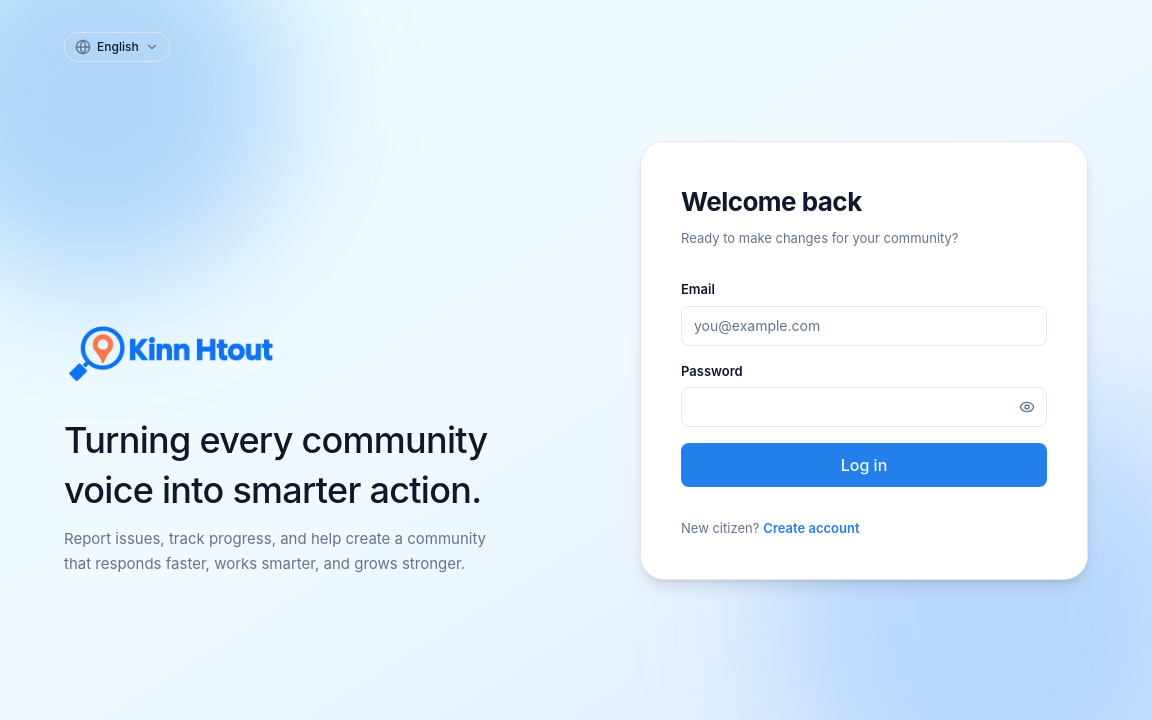
Test: LoginForm › shows the server error message on failed login
Type "x@example.com" into the field with placeholder "you@example.com" at x=864, y=326, box [681,306,1047,346]
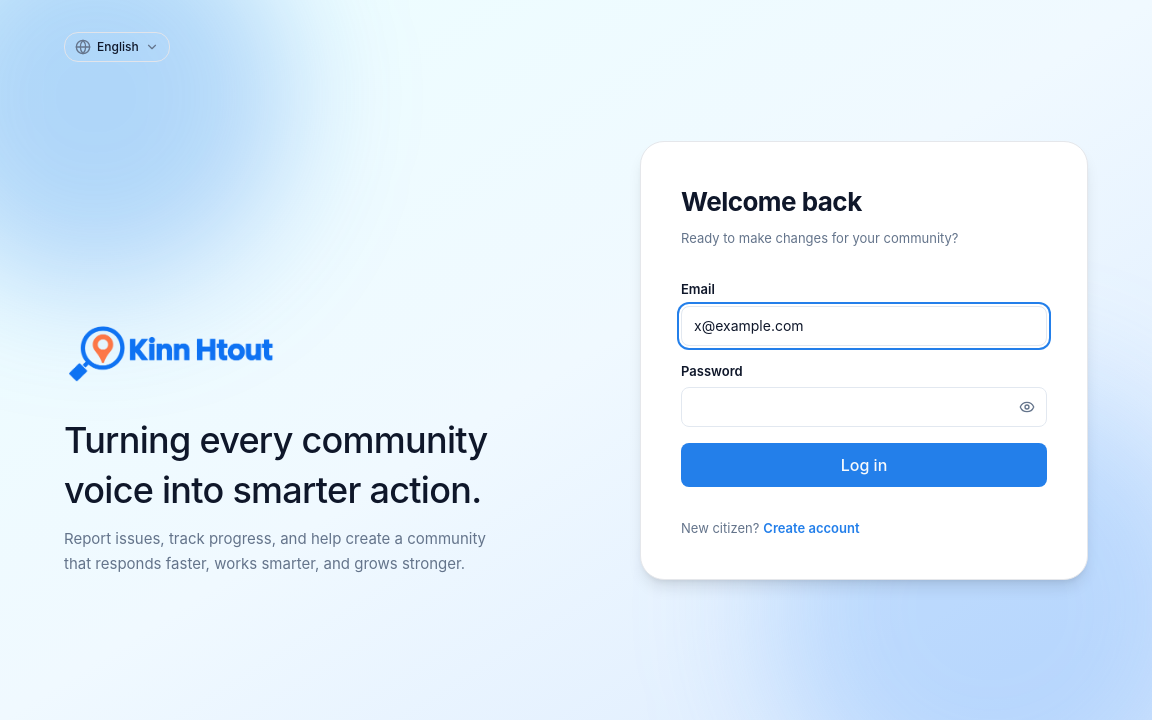
Type "wrong" into the password field labelled "Password" at x=864, y=407, box [681,387,1047,427]
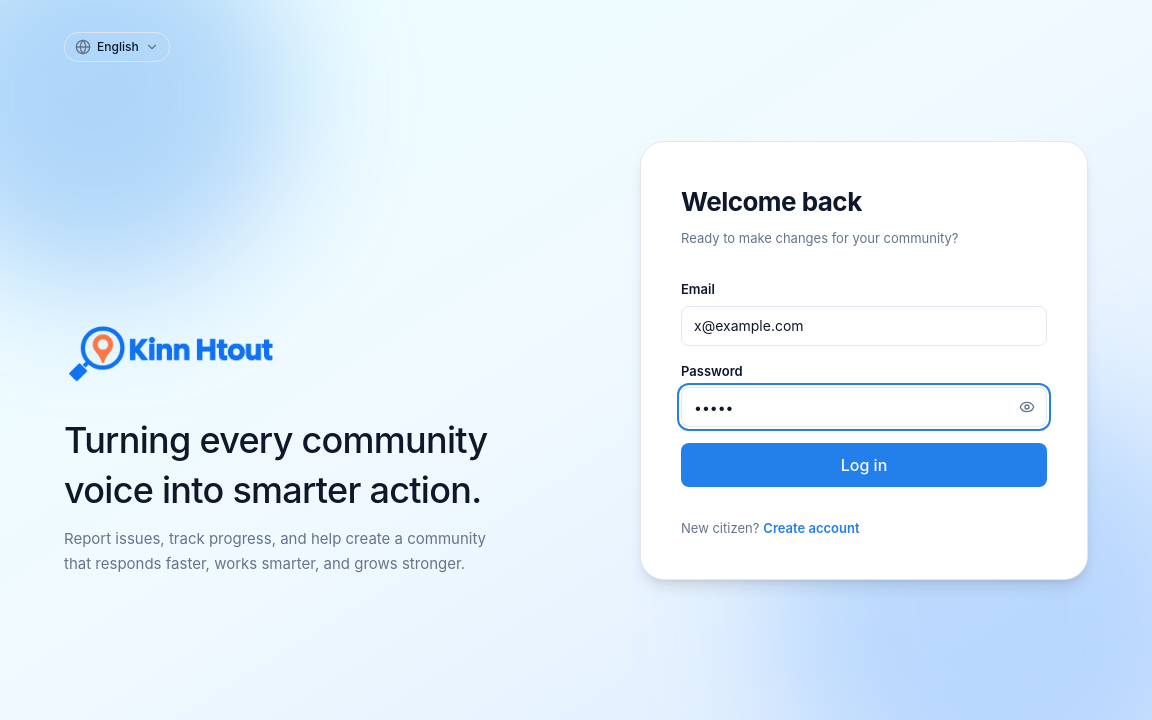
Click the button "Log in" at x=864, y=465, box [681,443,1047,487]
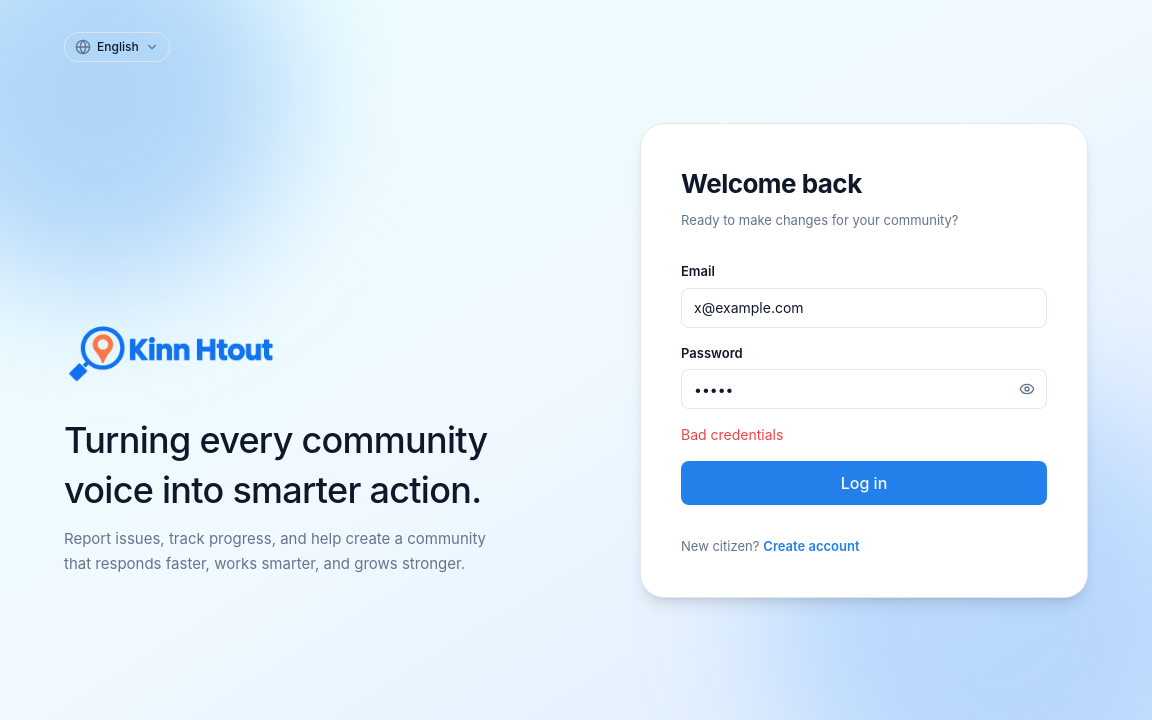
Check: the text "Bad credentials" is shown, box [681,426,783,443]
